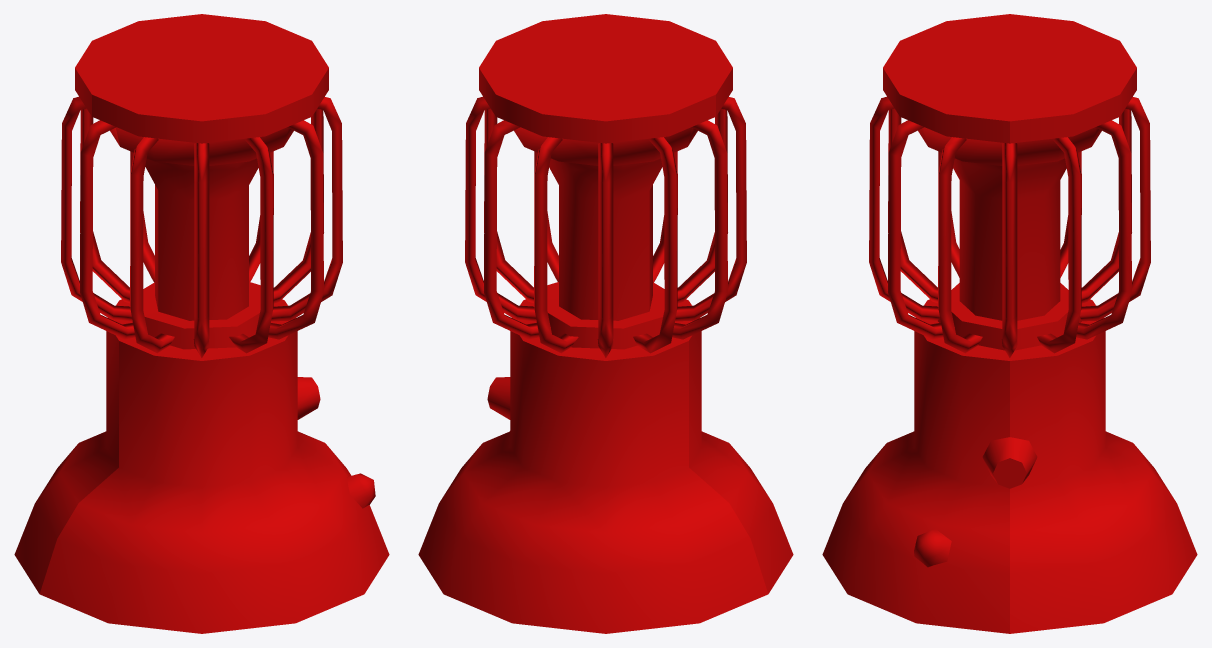
File: G_Kerosenelamp_003_S1.FBX
The picture shows the model from 3 angles, left to right: view 1: azimuth 30°, elevation 25°; view 2: azimuth 150°, elevation 25°; view 3: azimuth 270°, elevation 25°; orthographic projection.
Parts seen in each view (by area): view 1: S_M_Ornament_Kerosenelamp003_1x1x1_LOD0; view 2: S_M_Ornament_Kerosenelamp003_1x1x1_LOD0; view 3: S_M_Ornament_Kerosenelamp003_1x1x1_LOD0.
Boxes of the visible parts, bbox=[...] form: S_M_Ornament_Kerosenelamp003_1x1x1_LOD0: bbox=[14, 14, 389, 633]; S_M_Ornament_Kerosenelamp003_1x1x1_LOD0: bbox=[418, 14, 793, 633]; S_M_Ornament_Kerosenelamp003_1x1x1_LOD0: bbox=[822, 14, 1197, 633].
Bounding box in the file's own units: 49.53 × 70.94 × 49.53.
